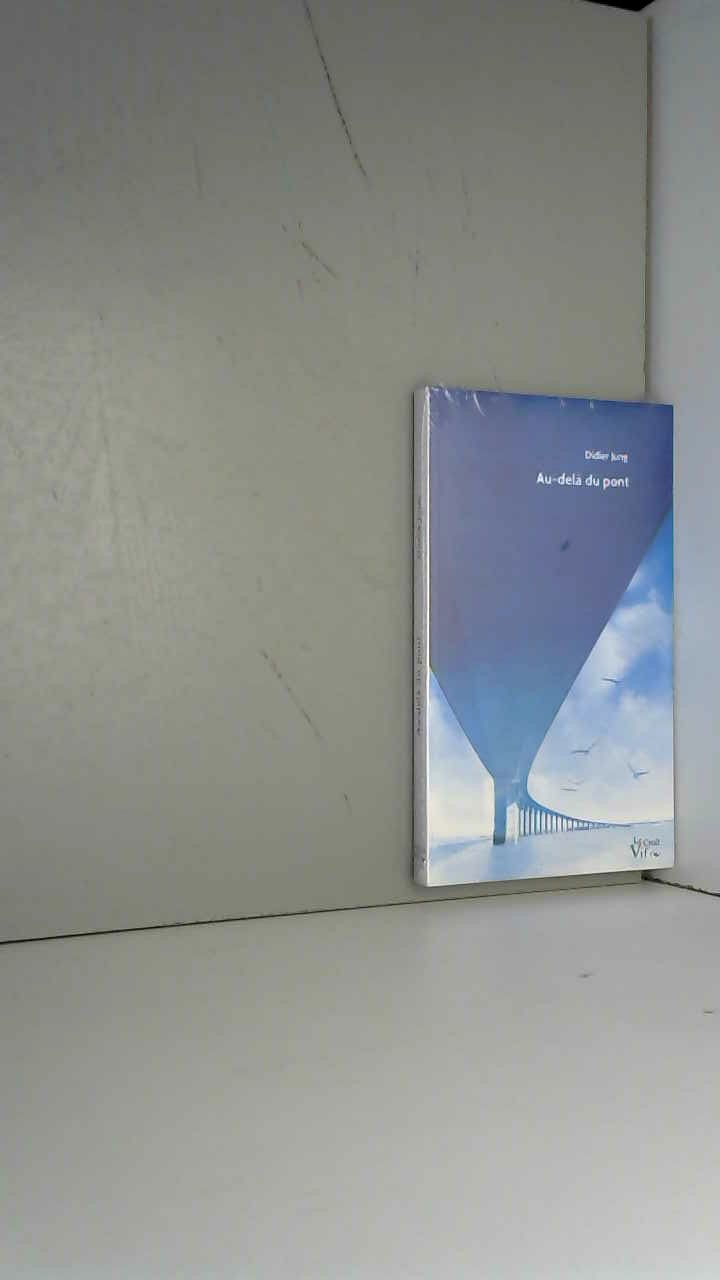book: (390, 350, 720, 936)
